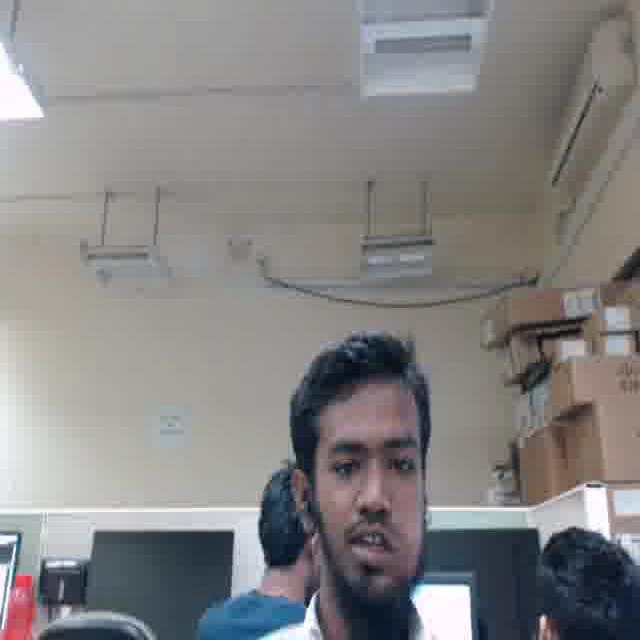Engaged: (313, 392, 428, 591)
